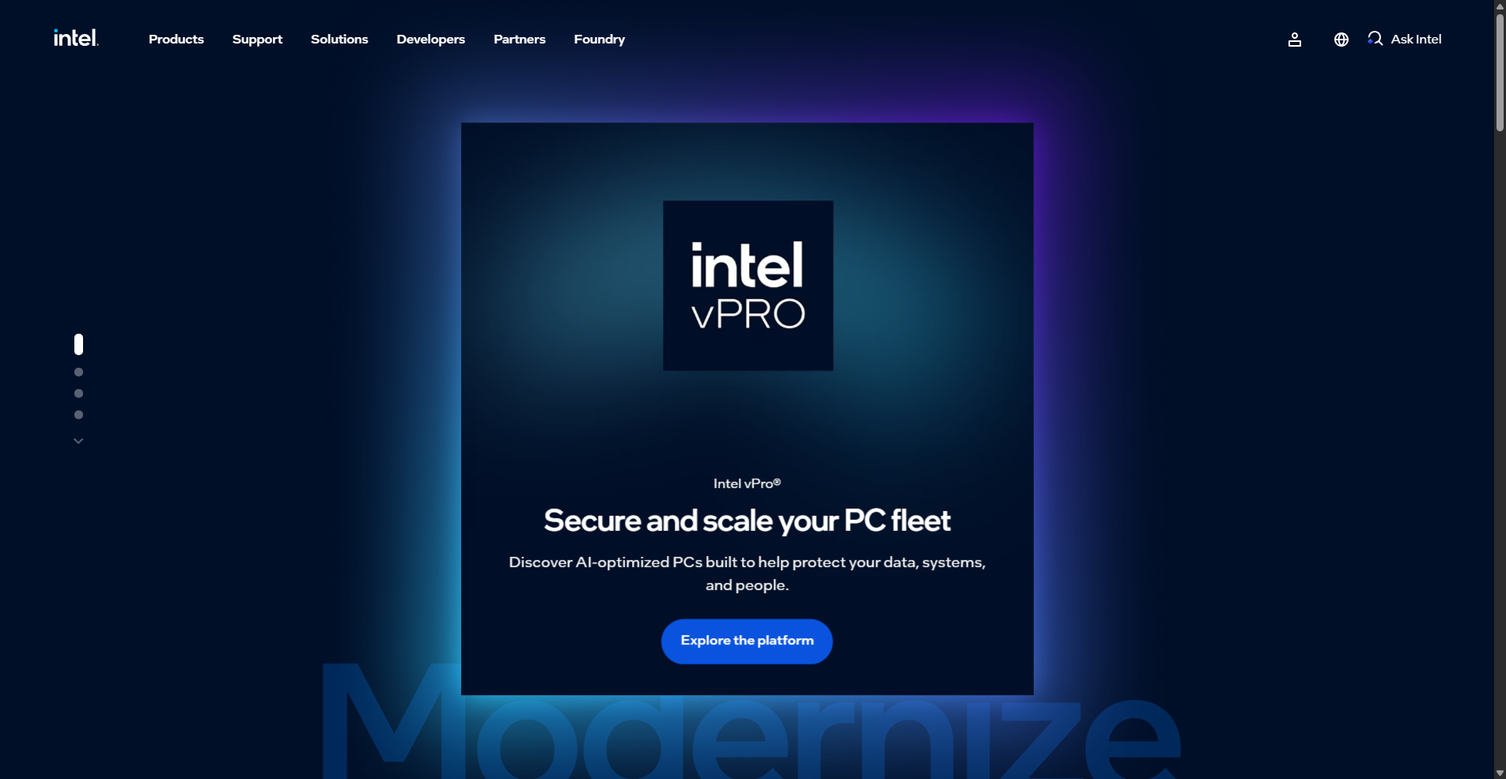button: (386, 20, 476, 59), (300, 20, 379, 59), (138, 20, 215, 59), (483, 20, 556, 59), (563, 20, 636, 59), (222, 20, 293, 59), (1275, 20, 1315, 59), (1322, 20, 1361, 59), (1286, 30, 1304, 48), (1332, 30, 1350, 48), (1368, 30, 1384, 48), (72, 432, 86, 445), (75, 334, 83, 355), (75, 368, 83, 377), (75, 389, 83, 398), (75, 410, 83, 419)
input: (1391, 30, 1451, 48)
label: (1367, 39, 1368, 40)
link: (661, 619, 833, 664), (690, 189, 804, 228), (43, 20, 109, 59), (663, 126, 831, 130), (674, 657, 820, 659)
